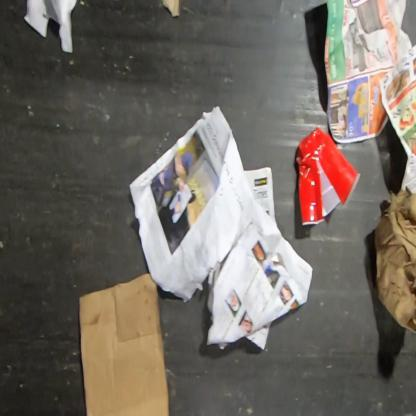cardboard: (79, 271, 171, 415), (161, 0, 181, 18)
rigid_plastic: (294, 126, 362, 227)
